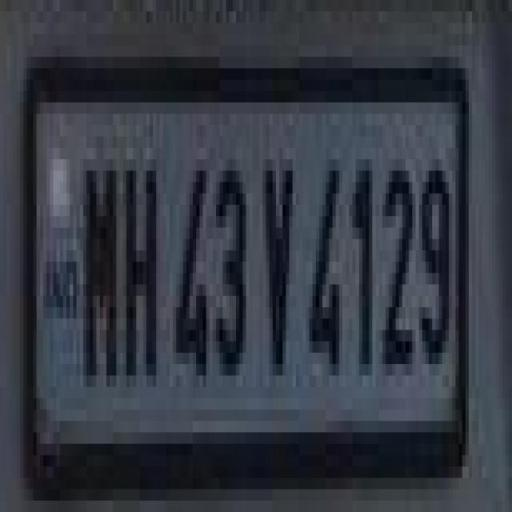number plate: (30, 65, 468, 464)
